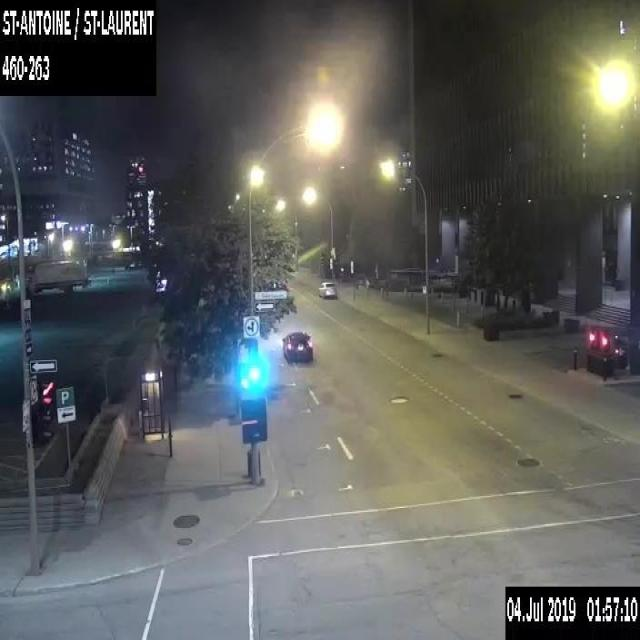vehicle: (25, 255, 88, 293), (281, 329, 313, 363), (319, 279, 336, 296), (125, 261, 142, 270)
